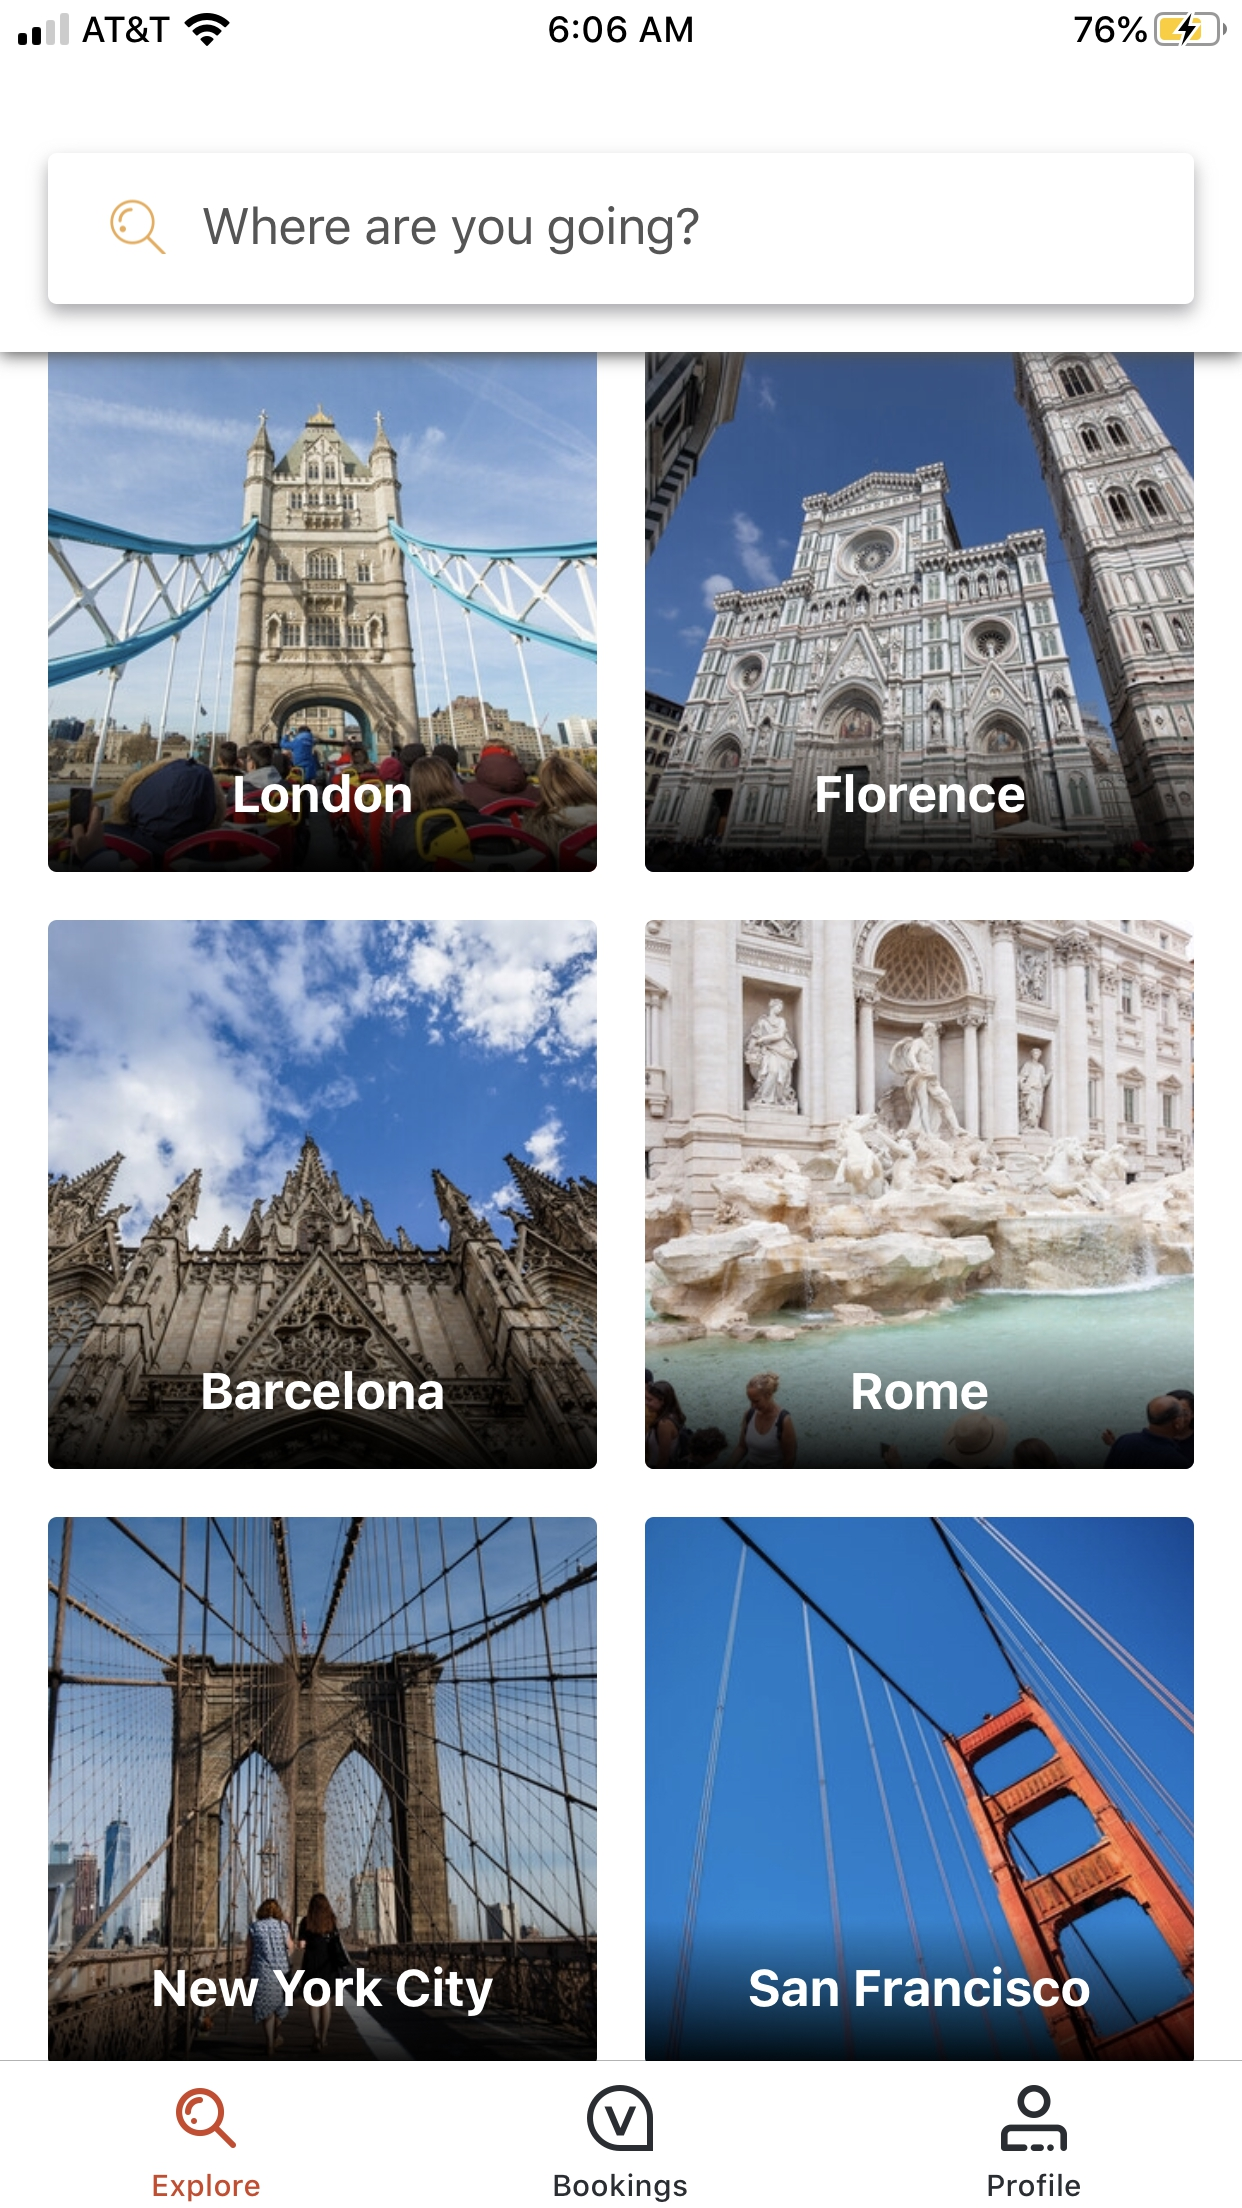EditText: (49, 155, 1193, 305)
Icon: (1001, 2084, 1068, 2152), (177, 2088, 237, 2147), (111, 202, 167, 255)
Image: (645, 921, 1193, 1469), (49, 921, 597, 1469), (49, 1516, 597, 2062), (645, 1516, 1195, 2061), (645, 353, 1193, 873), (49, 353, 597, 873), (587, 2085, 654, 2152)
Text: (205, 206, 701, 256), (155, 1967, 493, 2015), (751, 1965, 1090, 2008), (203, 1369, 444, 1410), (817, 773, 1025, 814), (235, 773, 412, 814), (852, 1372, 989, 1410), (554, 2173, 688, 2203), (153, 2173, 261, 2202), (989, 2172, 1081, 2197)
UpperTaskBar: (2, 2, 1242, 49)
